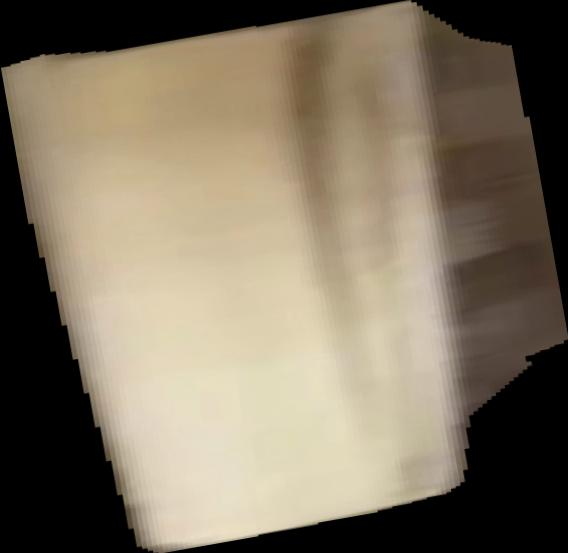backward: (1, 1, 568, 553)
